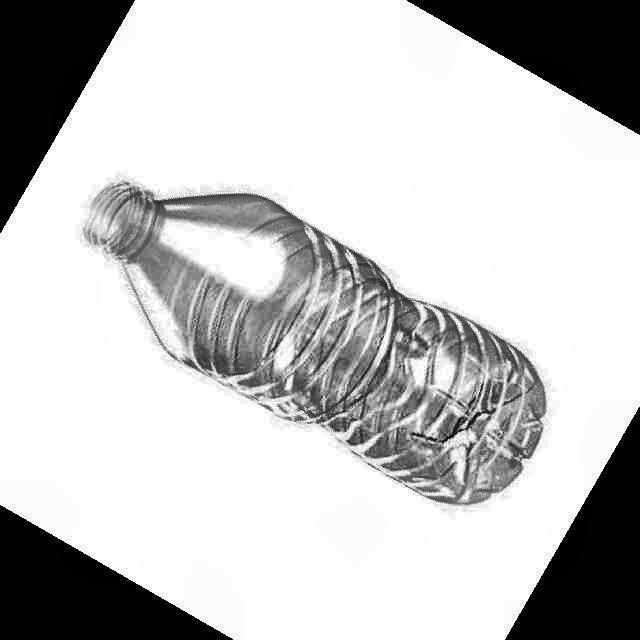plastic: (85, 184, 545, 502)
